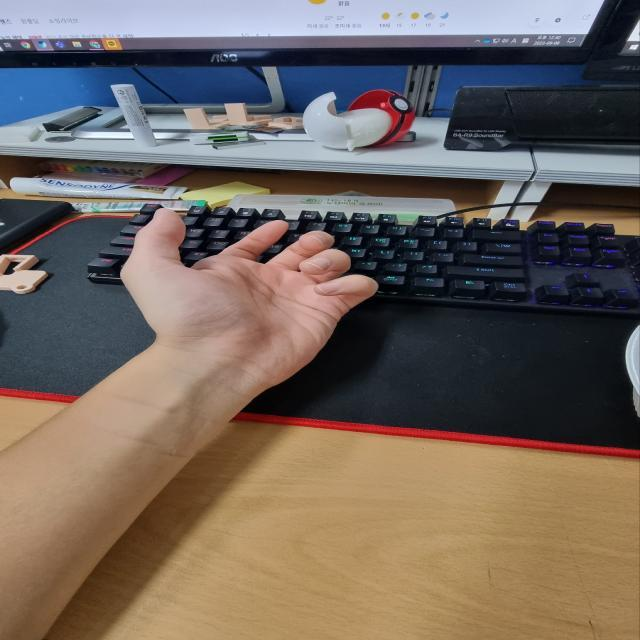keyboard-with-hands: (73, 200, 640, 315)
